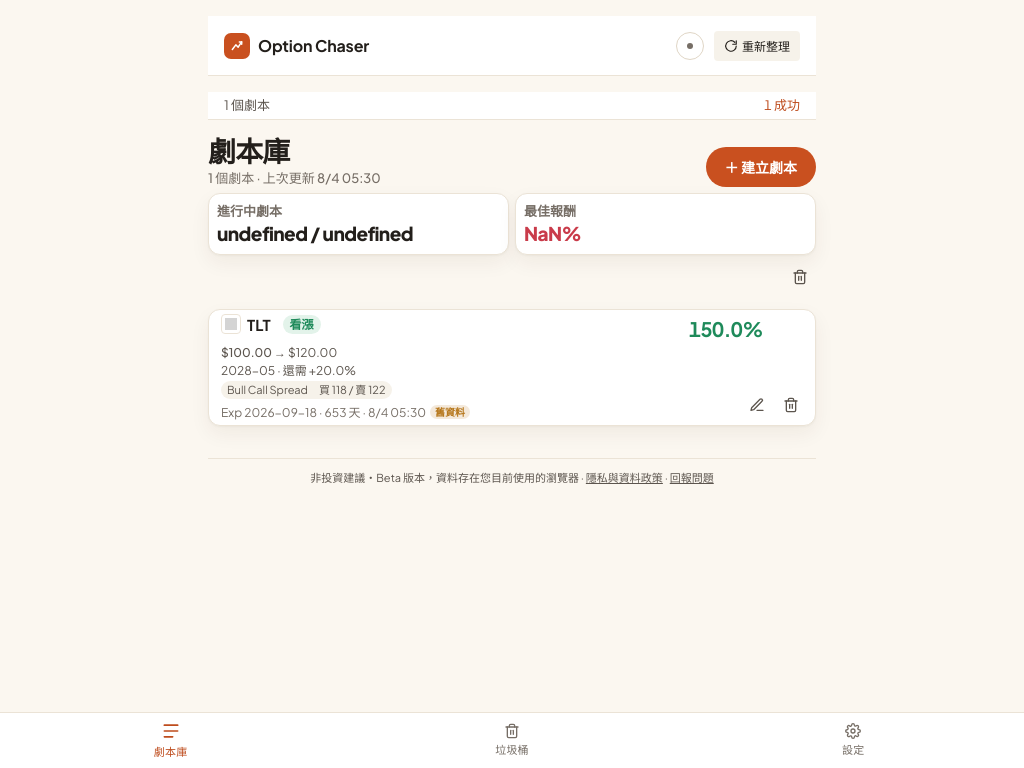
Scenario: 劇本庫（V3／#51） › 封存失敗時卡片回到清單上，並說明原因
Expected: the button "重新整理" is shown, [714,30,800,60]
Click the button named "封存 TLT 2028-05" at (791, 405), box [775,393,807,417]
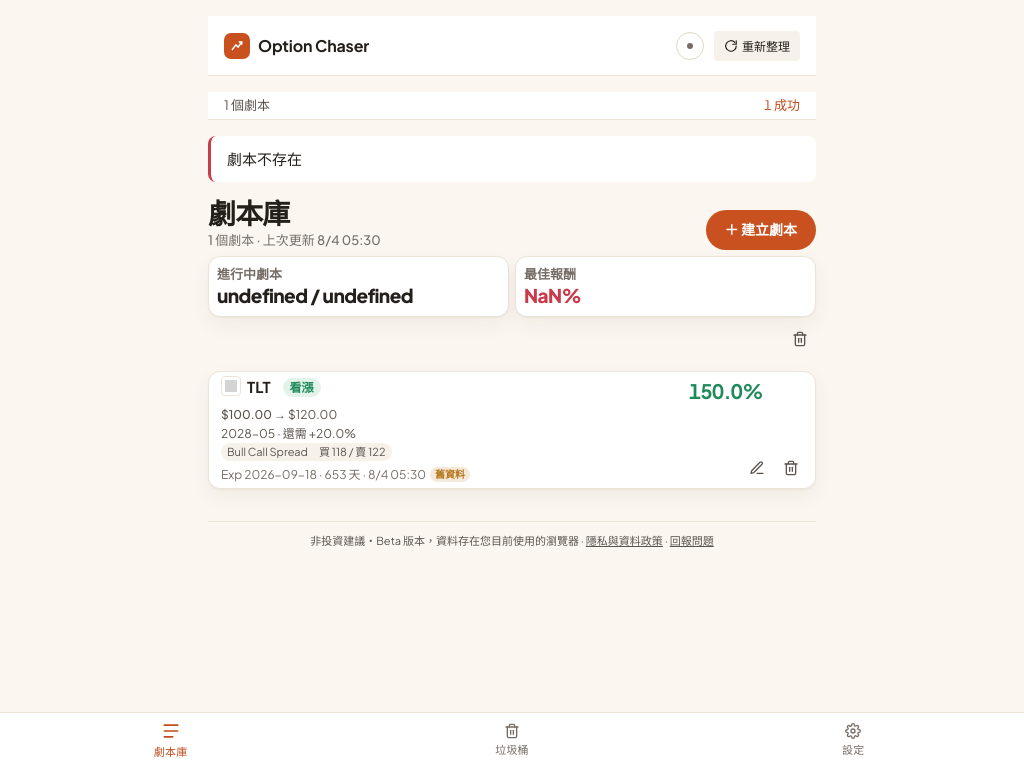
Expected: the text "TLT" is shown, [247,376,270,398]
Result: the message "劇本不存在" is shown at [208,136,816,182]
